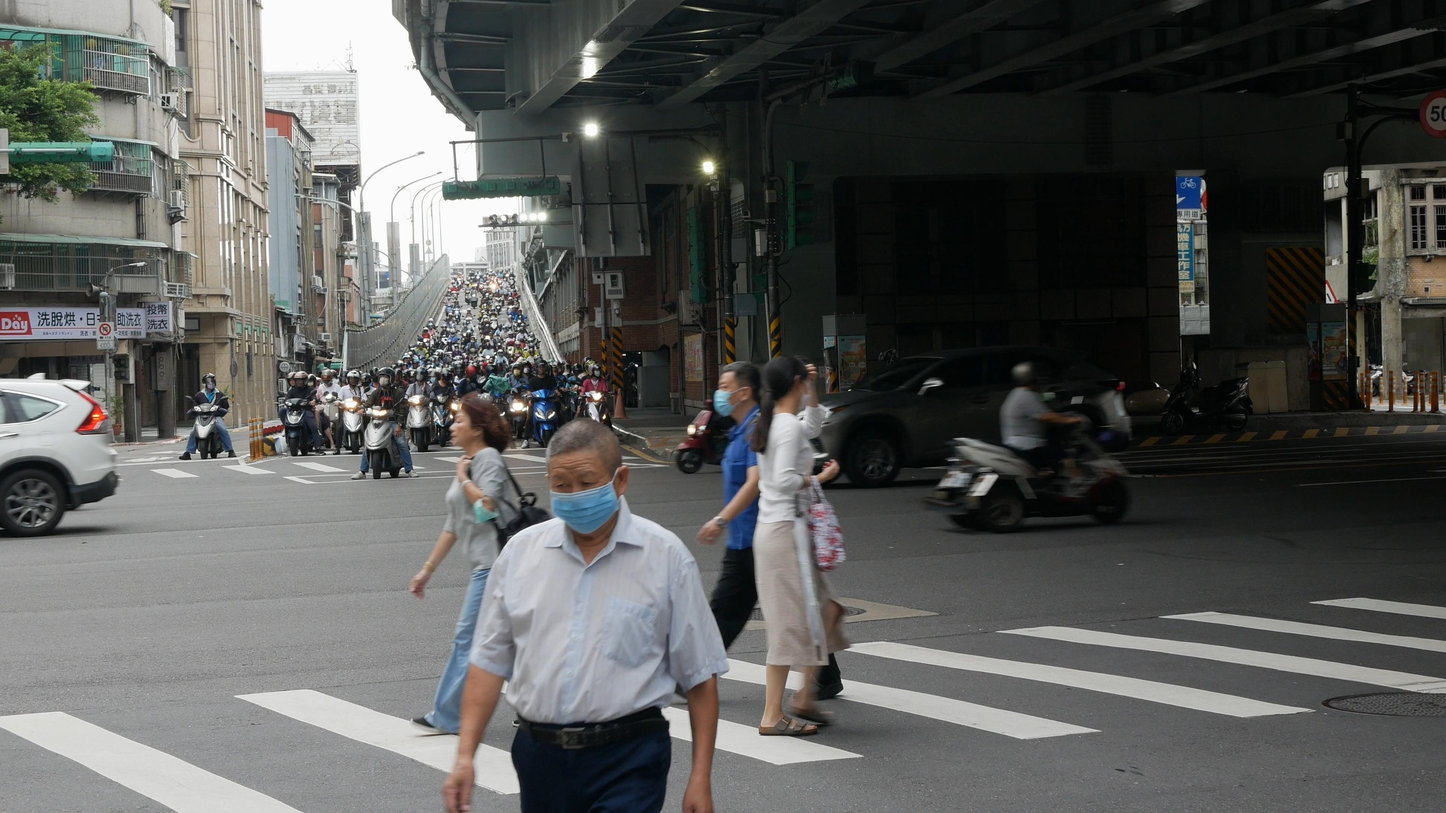driver: (953, 360, 1132, 534), (351, 367, 419, 480), (179, 373, 237, 460), (278, 371, 326, 456), (521, 359, 565, 448), (398, 366, 439, 452), (331, 370, 370, 455), (573, 357, 616, 431), (432, 368, 459, 447)
helmet: (1012, 360, 1040, 388), (376, 367, 395, 387), (294, 371, 308, 389), (346, 370, 360, 387), (584, 359, 598, 375), (465, 365, 478, 382), (414, 367, 428, 382), (535, 359, 548, 375), (588, 363, 601, 378), (440, 368, 452, 384), (321, 369, 333, 384), (512, 362, 524, 376), (360, 373, 372, 387), (285, 372, 296, 387), (582, 357, 593, 371), (521, 360, 532, 374), (307, 374, 316, 387)
no-helmet: (544, 416, 629, 535), (449, 391, 510, 453), (713, 360, 761, 418), (760, 355, 809, 402)
